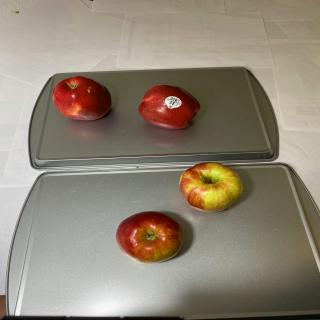Apple: (115, 211, 183, 264), (178, 162, 244, 212), (138, 84, 201, 130), (52, 75, 112, 121)
